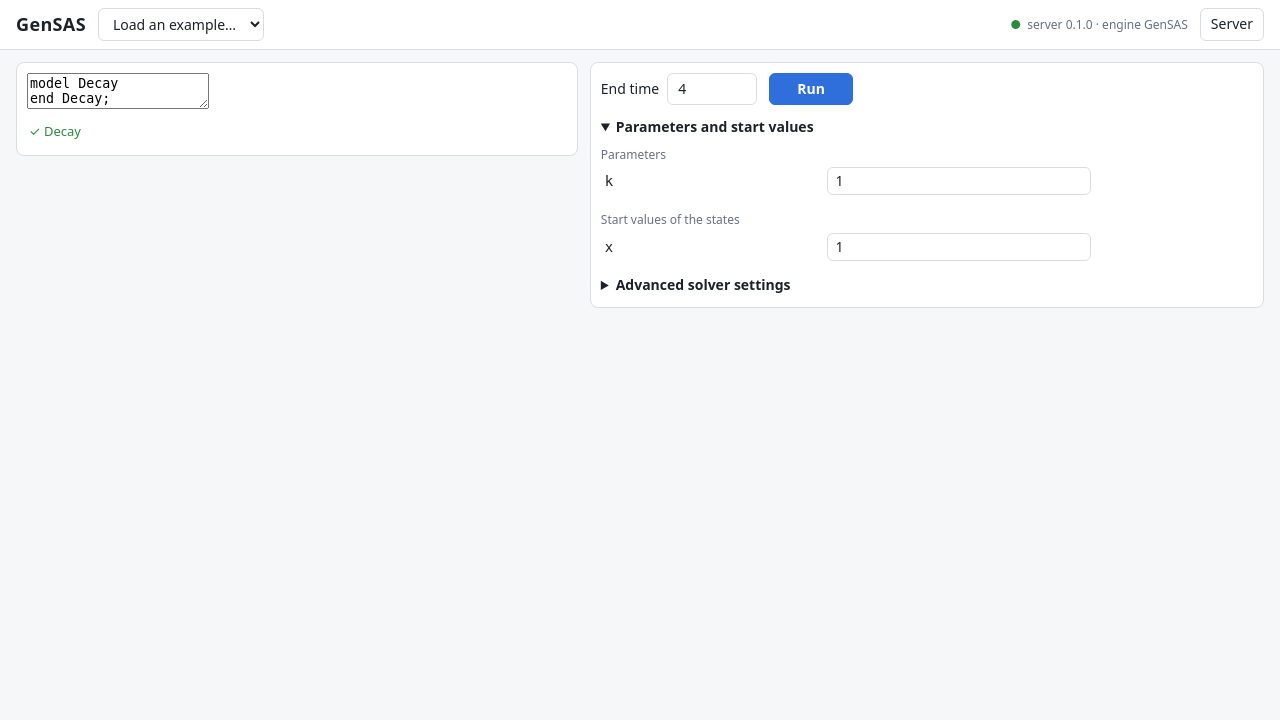
App › runs the model with the edited values and shows the result
Replace the text in the field named "k" with "3" at point(959, 181), box top-left (826, 167), bottom-right (1091, 195)
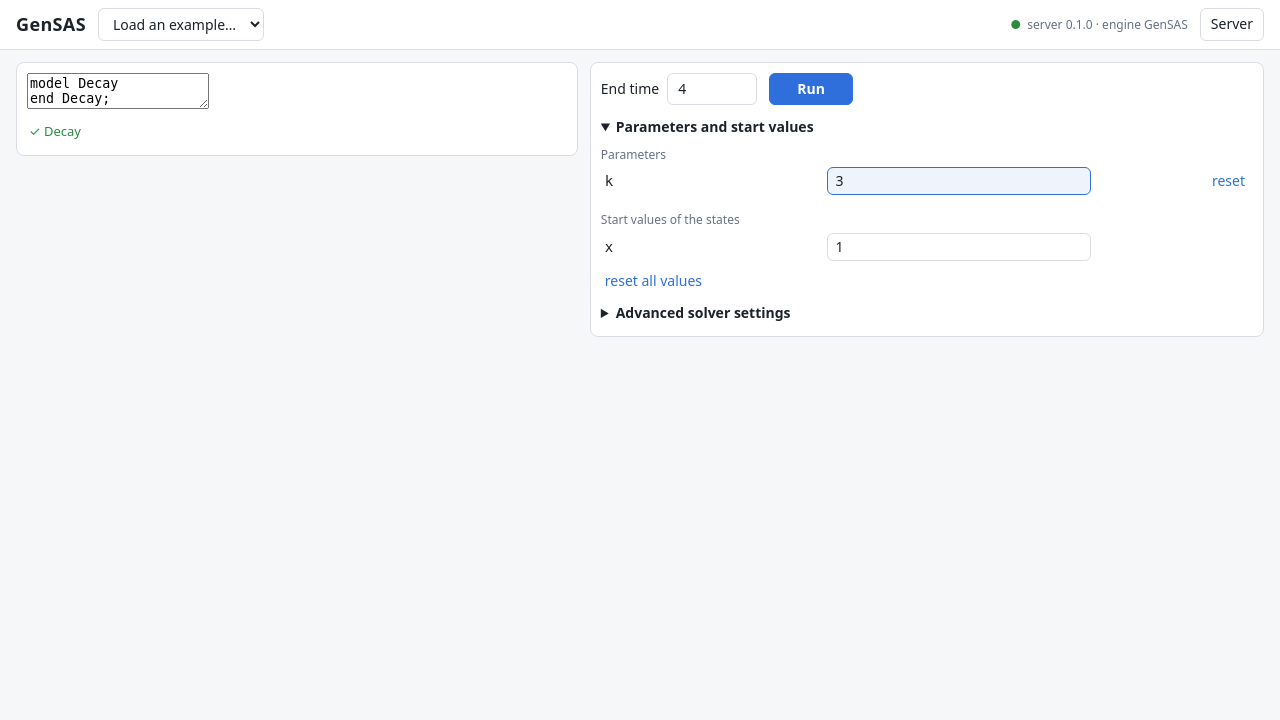
Click the button "Run".
click(811, 89)  # box top-left (769, 73), bottom-right (853, 105)
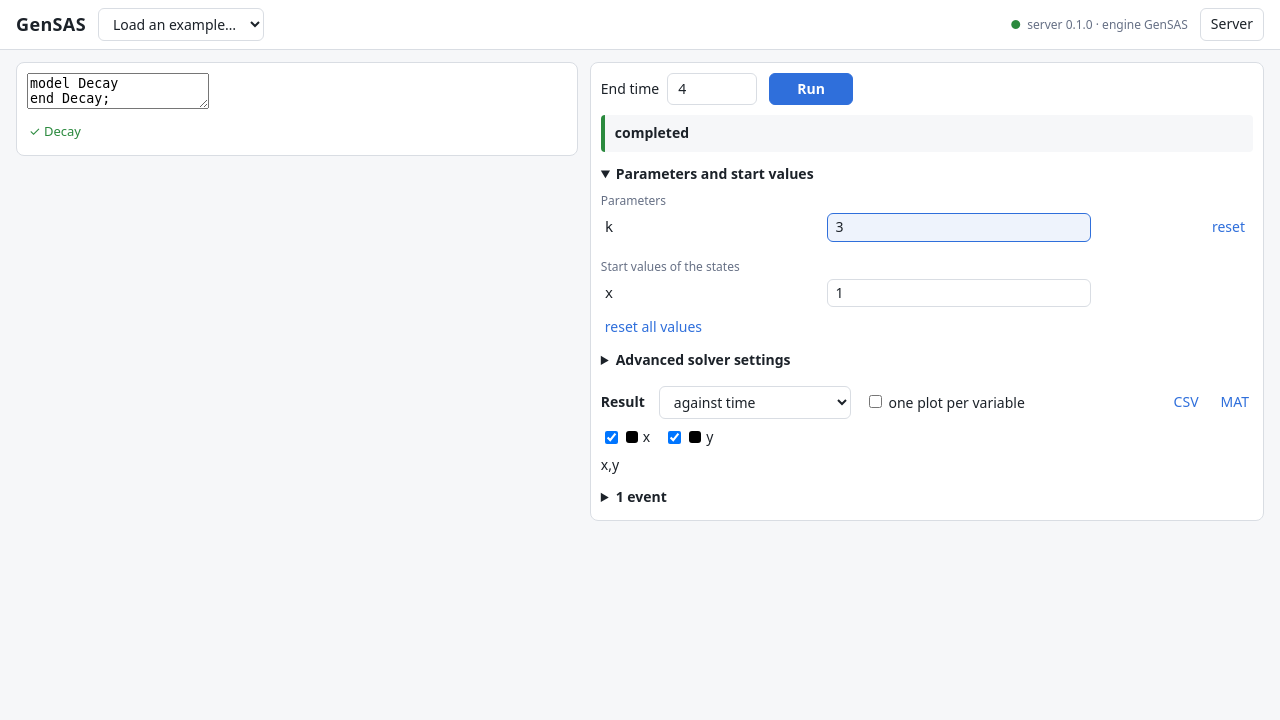
expect the element with class "completed" is shown: met, box top-left (601, 115), bottom-right (1253, 152)
expect the text with test id "plot" reads "x,y": met, box top-left (601, 455), bottom-right (619, 474)
expect the text "1 event" is shown: met, box top-left (616, 488), bottom-right (667, 506)
